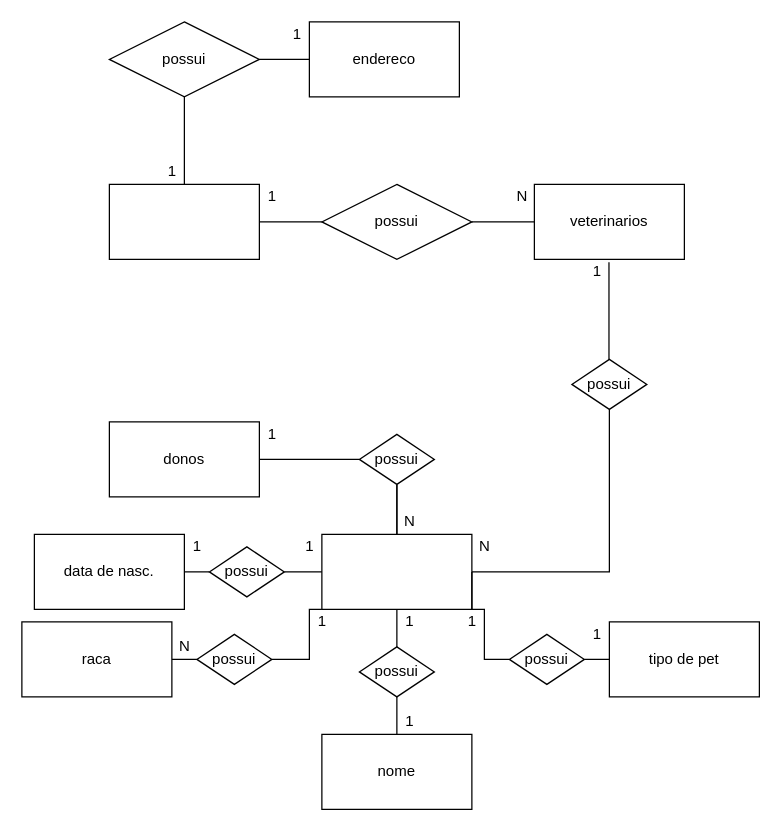
The diagram is 781 pixels wide and 831 high, and some of its shapes have lost their labels. Each missing label, with the box of its shape:
clinica: (108, 183, 259, 259)
pets: (321, 533, 472, 609)
